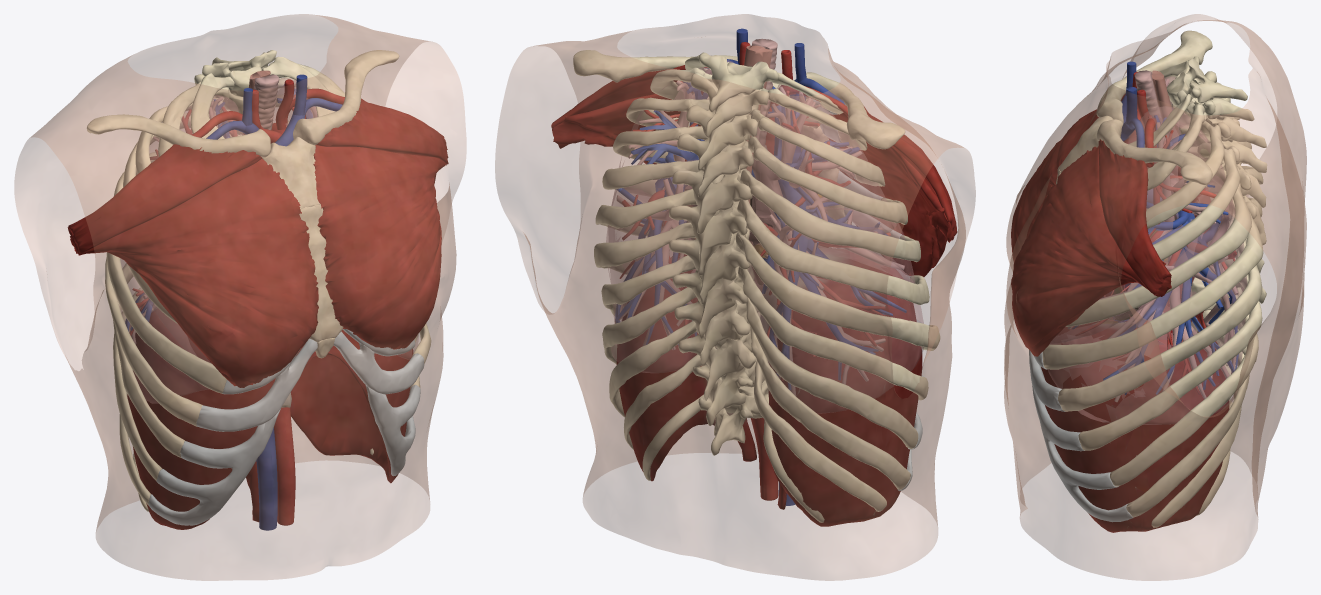
Rendered from cardiotwin_anatomy.glb.
3 views of the same model, side by side, from view 1: azimuth 30°, elevation 25°; view 2: azimuth 150°, elevation 25°; view 3: azimuth 270°, elevation 25° (orthographic). The views are drawn at different scales.
Parts seen in each view (by area): view 1: Skin_Torso, Pectoralis_R, Pectoralis_L, Diaphragm, Ribs_R, CostalCartilage, Sternum, Lung_R, Clavicle_R, Clavicle_L, GreatVessel_Aorta, GreatVessel_SVC_BrachiocephalicVeins (+6 smaller); view 2: Skin_Torso, Ribs_R, Spine_Thoracic, Diaphragm, Lung_R, Ribs_L, Lung_L, Pectoralis_R, GreatVessel_PulmonaryArtery, Trachea_Bronchi, Pectoralis_L, Clavicle_L (+8 smaller); view 3: Skin_Torso, Ribs_L, Pectoralis_L, Diaphragm, Lung_L, Spine_Thoracic, CostalCartilage, Trachea_Bronchi, GreatVessel_PulmonaryArtery, Pectoralis_R, Clavicle_L, Clavicle_R (+6 smaller).
Boxes of the visible parts, x1,y1,x2,y2 form: Skin_Torso: [14, 14, 466, 580]; Pectoralis_R: [67, 144, 318, 387]; Pectoralis_L: [313, 98, 448, 349]; Diaphragm: [127, 309, 413, 529]; Ribs_R: [105, 73, 234, 511]; CostalCartilage: [148, 329, 424, 525]; Sternum: [262, 137, 343, 358]; Lung_R: [119, 95, 244, 403]; Clavicle_R: [86, 114, 270, 157]; Clavicle_L: [293, 50, 399, 145]; GreatVessel_Aorta: [271, 123, 295, 525]; GreatVessel_SVC_BrachiocephalicVeins: [206, 74, 342, 146]; Skin_Torso: [495, 14, 975, 580]; Ribs_R: [735, 72, 940, 522]; Spine_Thoracic: [668, 52, 779, 455]; Diaphragm: [616, 248, 922, 526]; Lung_R: [748, 84, 923, 413]; Ribs_L: [594, 55, 729, 480]; Lung_L: [606, 60, 733, 372]; Pectoralis_R: [829, 106, 957, 276]; GreatVessel_PulmonaryArtery: [615, 81, 906, 389]; Trachea_Bronchi: [615, 38, 904, 395]; Pectoralis_L: [551, 70, 703, 164]; Clavicle_L: [573, 50, 737, 82]; Skin_Torso: [1004, 14, 1306, 580]; Ribs_L: [1042, 90, 1263, 527]; Pectoralis_L: [1011, 139, 1171, 356]; Diaphragm: [1041, 312, 1229, 532]; Lung_L: [1048, 106, 1247, 424]; Spine_Thoracic: [1166, 56, 1267, 408]; CostalCartilage: [1029, 350, 1133, 522]; Trachea_Bronchi: [1068, 70, 1238, 402]; GreatVessel_PulmonaryArtery: [1072, 108, 1238, 394]; Pectoralis_R: [1011, 94, 1125, 262]; Clavicle_L: [1096, 119, 1212, 184]; Clavicle_R: [1096, 30, 1212, 123].
Bounding box in the file's own units: 3.83 × 4.17 × 2.6.
41 materials, 32 textured.
